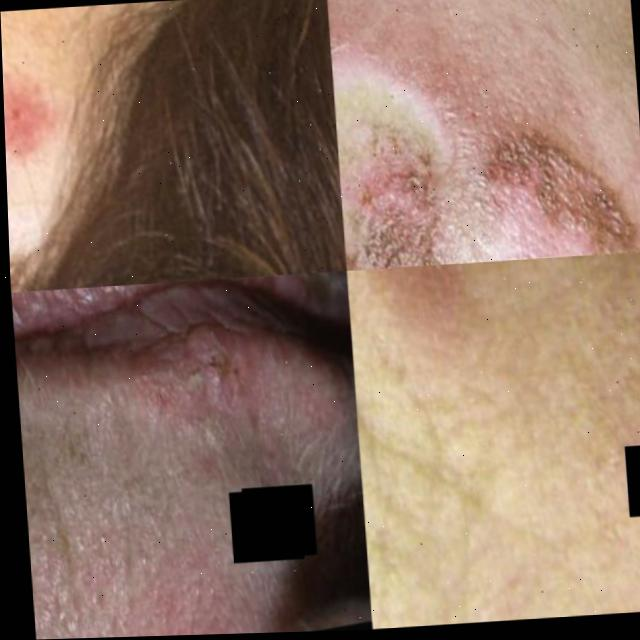lupus-detected: (326, 0, 640, 270), (345, 255, 602, 419), (0, 1, 161, 234), (138, 289, 317, 446), (75, 278, 232, 326), (283, 271, 348, 310)
